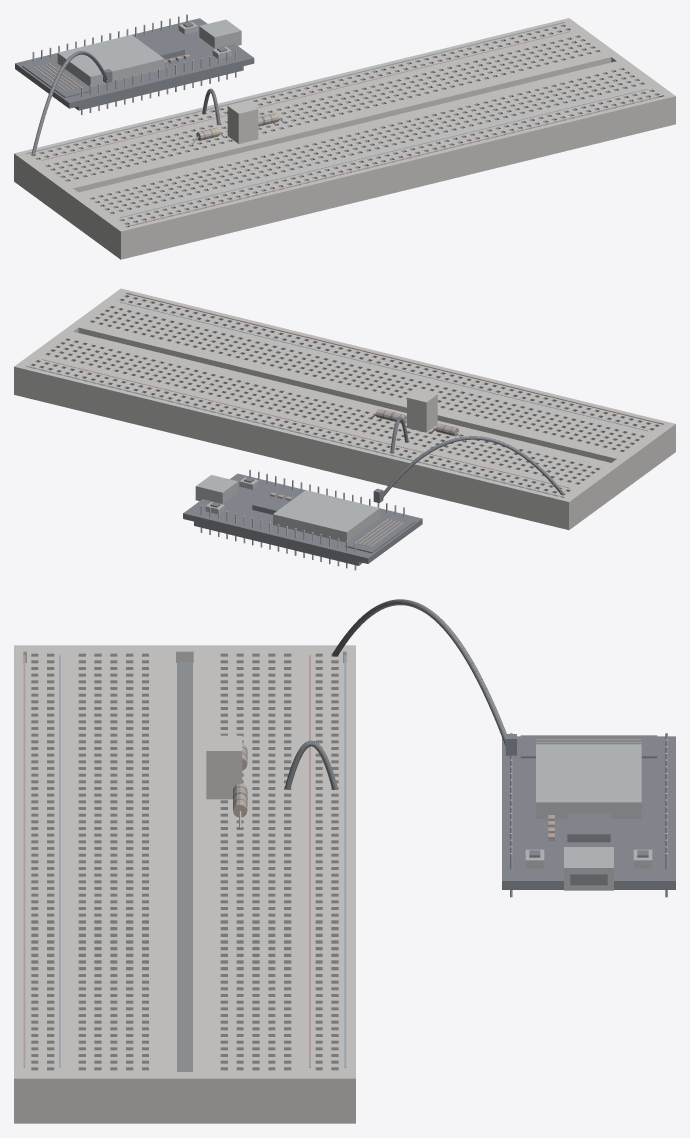
File: step-6.glb
3 renders of one model, top to bottom at view 1: azimuth 30°, elevation 25°; view 2: azimuth 150°, elevation 25°; view 3: azimuth 270°, elevation 25°, orthographic. The views are drawn at different scales.
Parts seen in each view (by area): view 1: breadboard__mesh, arduino__mesh, rgb_led__mesh, wire_gnd_rail__mesh; view 2: breadboard__mesh, arduino__mesh, rgb_led__mesh, wire_gnd_rail__mesh; view 3: breadboard__mesh, arduino__mesh, rgb_led__mesh, wire_gnd_rail__mesh.
Part boxes in pixels (x1,y1,x2,y2): breadboard__mesh: [14, 18, 675, 259]; arduino__mesh: [15, 14, 254, 114]; rgb_led__mesh: [227, 101, 258, 143]; wire_gnd_rail__mesh: [31, 51, 112, 155]; breadboard__mesh: [14, 288, 675, 529]; arduino__mesh: [183, 469, 422, 570]; rgb_led__mesh: [407, 389, 437, 432]; wire_gnd_rail__mesh: [373, 436, 564, 502]; breadboard__mesh: [14, 645, 355, 1123]; arduino__mesh: [502, 732, 675, 897]; rgb_led__mesh: [206, 735, 242, 799]; wire_gnd_rail__mesh: [332, 599, 516, 755].
Bounding box in the file's own units: 0.165 × 0.0257 × 0.1065.
